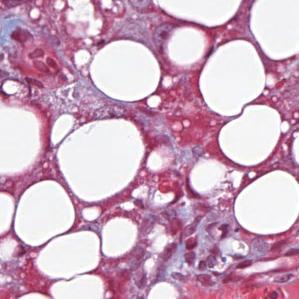inflammation: (174, 212, 235, 273)
